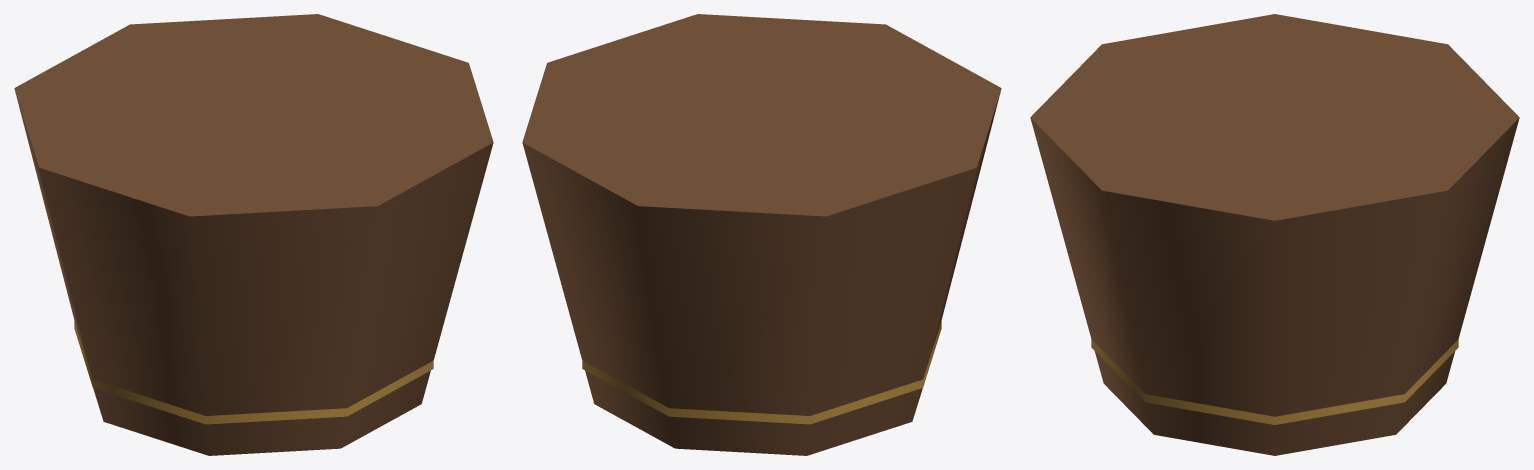
The model's file is pickup-basket.glb.
3 views of the same model, side by side, from view 1: azimuth 30°, elevation 25°; view 2: azimuth 150°, elevation 25°; view 3: azimuth 270°, elevation 25° (orthographic).
Visible parts, largest first — view 1: pickup-basket-surface; view 2: pickup-basket-surface; view 3: pickup-basket-surface.
Part boxes in pixels (bbox=[...]): pickup-basket-surface: bbox=[14, 14, 493, 455]; pickup-basket-surface: bbox=[522, 14, 1001, 455]; pickup-basket-surface: bbox=[1030, 14, 1519, 455].
Bounding box in the file's own units: 0.224 × 0.1344 × 0.224.
